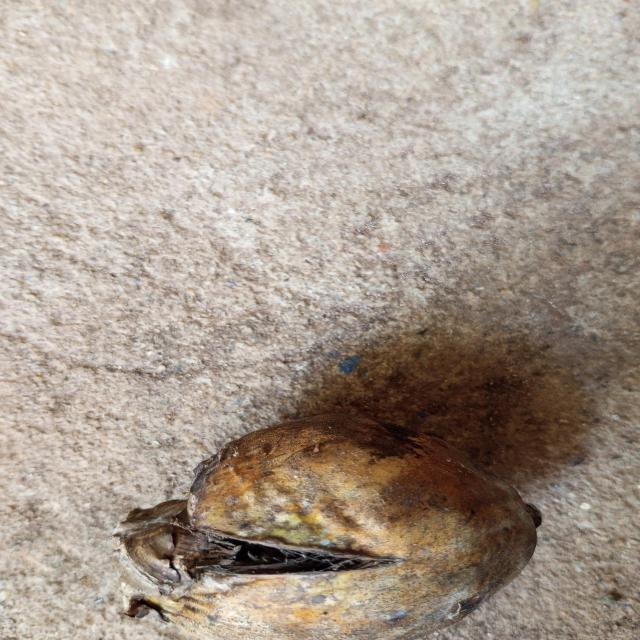damaged: (115, 414, 541, 640)
